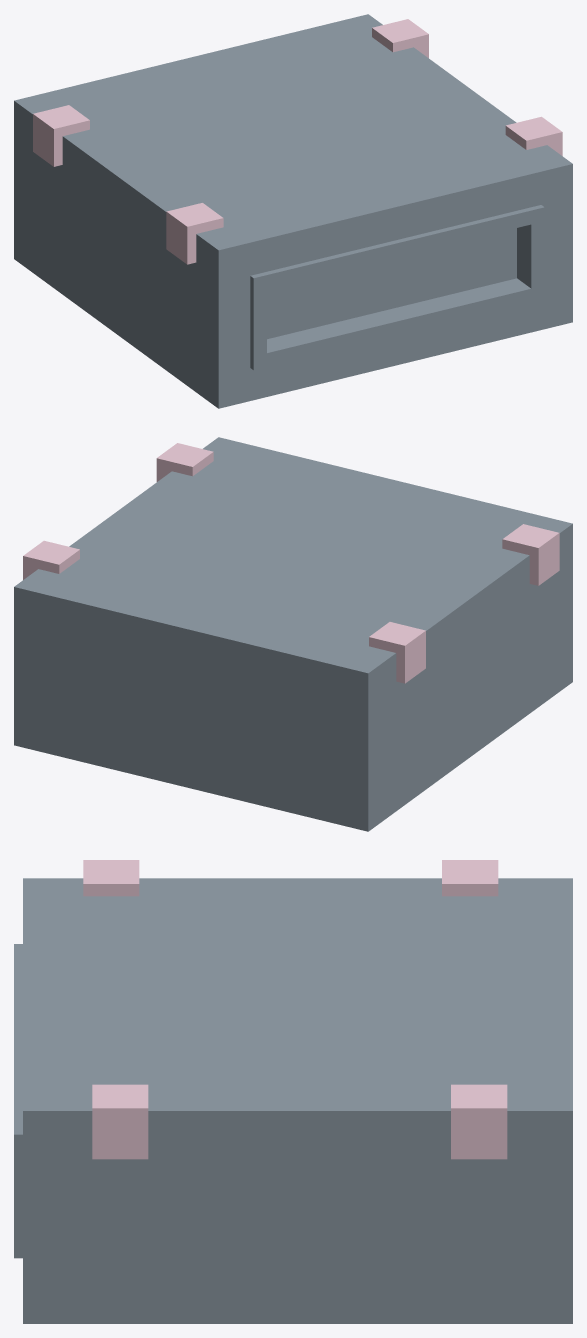
The model's file is sensor.fbx.
3 renders of one model, top to bottom at view 1: azimuth 30°, elevation 25°; view 2: azimuth 150°, elevation 25°; view 3: azimuth 270°, elevation 25°, orthographic. The views are drawn at different scales.
Visible parts, largest first — view 1: screen, 立方体.004, 立方体.005, 立方体.007, 立方体.006; view 2: screen, 立方体.004, 立方体.005, 立方体.007, 立方体.006; view 3: screen, 立方体.007, 立方体.006, 立方体.005, 立方体.004.
Part boxes in pixels (x1,y1,x2,y2): screen: (14,14,572,408); 立方体.004: (166,203,223,264); 立方体.005: (33,105,89,166); 立方体.007: (505,116,562,155); 立方体.006: (372,19,428,57); screen: (14,437,572,831); 立方体.004: (502,524,559,585); 立方体.005: (369,622,425,683); 立方体.007: (156,443,213,481); 立方体.006: (23,540,79,579); screen: (14,878,572,1323); 立方体.007: (92,1084,148,1159); 立方体.006: (451,1084,507,1159); 立方体.005: (442,860,498,896); 立方体.004: (83,860,139,896).
Bounding box in the file's own units: 28.13 × 11.91 × 26.77.
